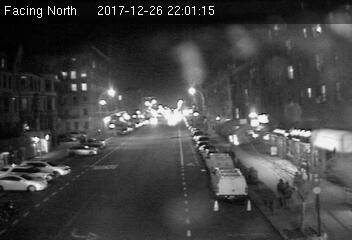truck: (210, 168, 250, 205)
